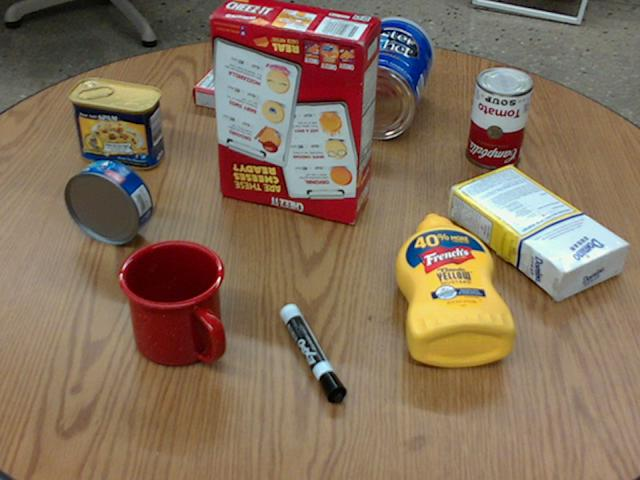cracker_box: (209, 0, 379, 221)
gelatin_box: (192, 64, 274, 116)
large_marker: (278, 303, 345, 402)
master_chef_can: (333, 17, 431, 138)
mug: (118, 240, 226, 366)
mustard_bottle: (394, 212, 514, 366)
potted_meat_can: (67, 79, 163, 169)
sugar_box: (446, 167, 628, 297)
tomato_soup_can: (463, 65, 531, 167)
tuna_fish_can: (64, 159, 151, 245)
